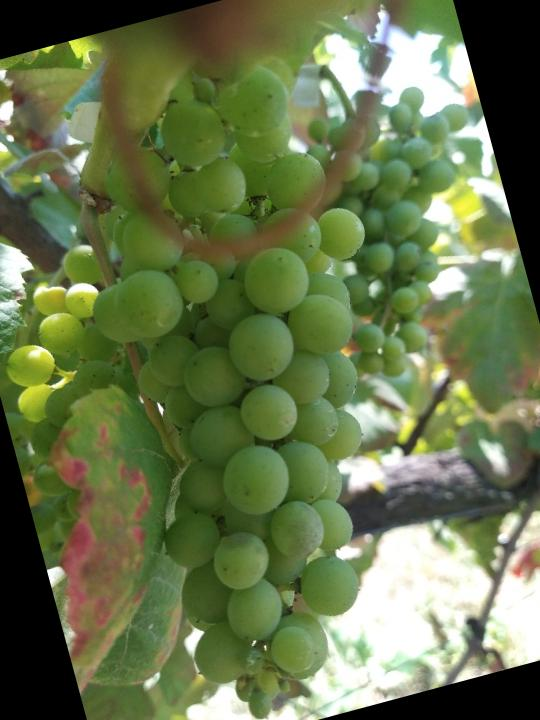grape: (34, 45, 487, 720)
